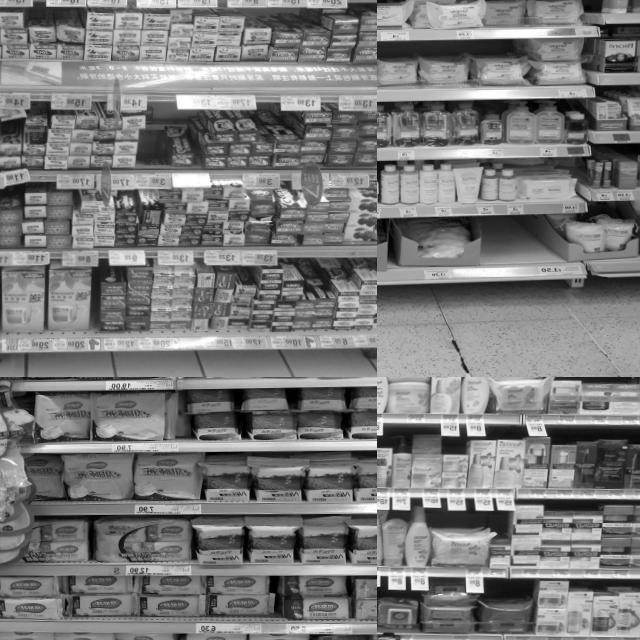empty_space: (481, 215, 523, 278), (139, 127, 161, 188)
